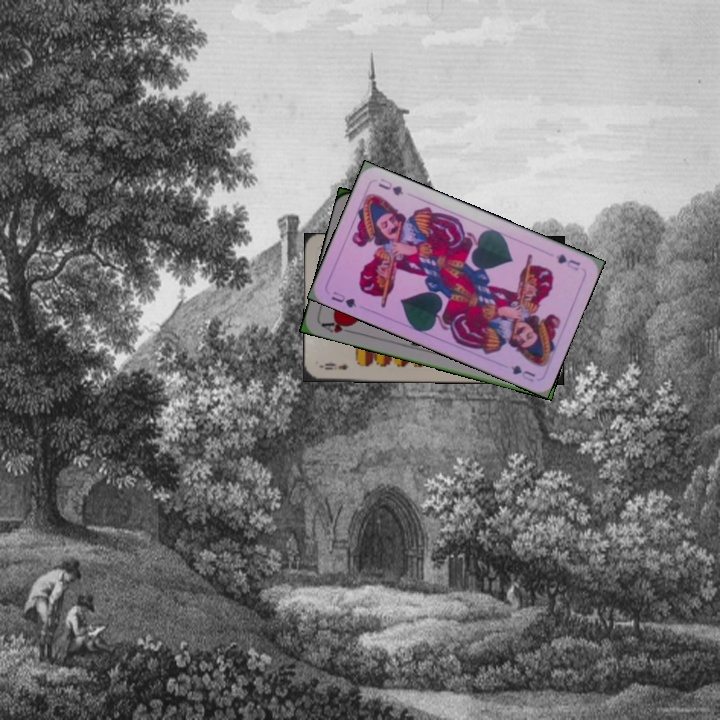E9: (318, 359, 351, 372)
GU: (327, 287, 359, 311), (552, 250, 583, 273)
HA: (317, 315, 358, 336)
